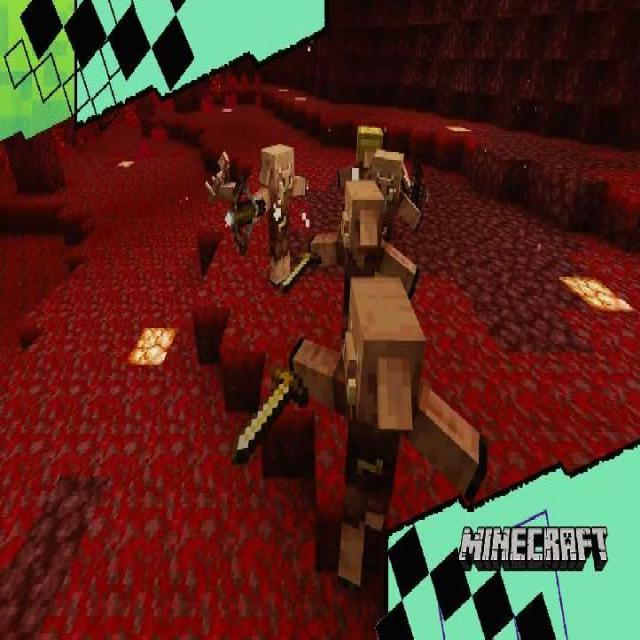Piglin: (236, 274, 487, 592), (309, 180, 421, 330), (232, 140, 312, 289), (337, 150, 421, 247)
